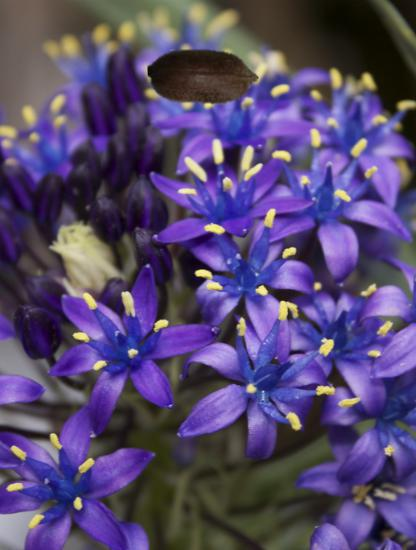Nut: (148, 21, 260, 133)
